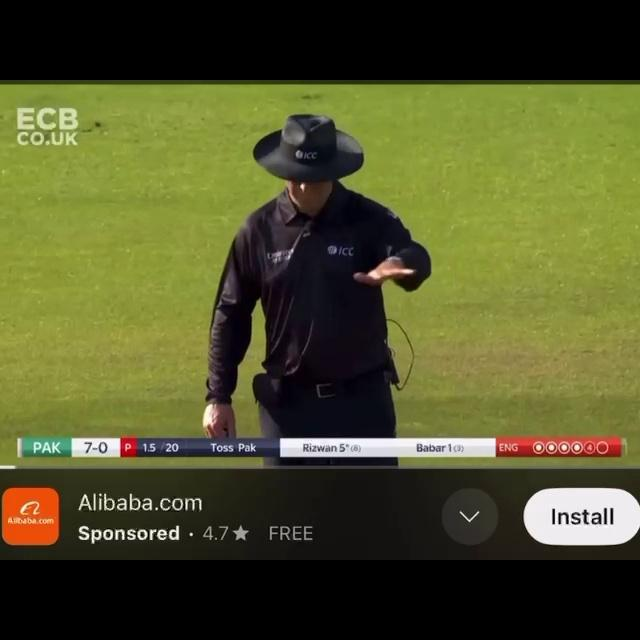umpire: (170, 101, 499, 429)
